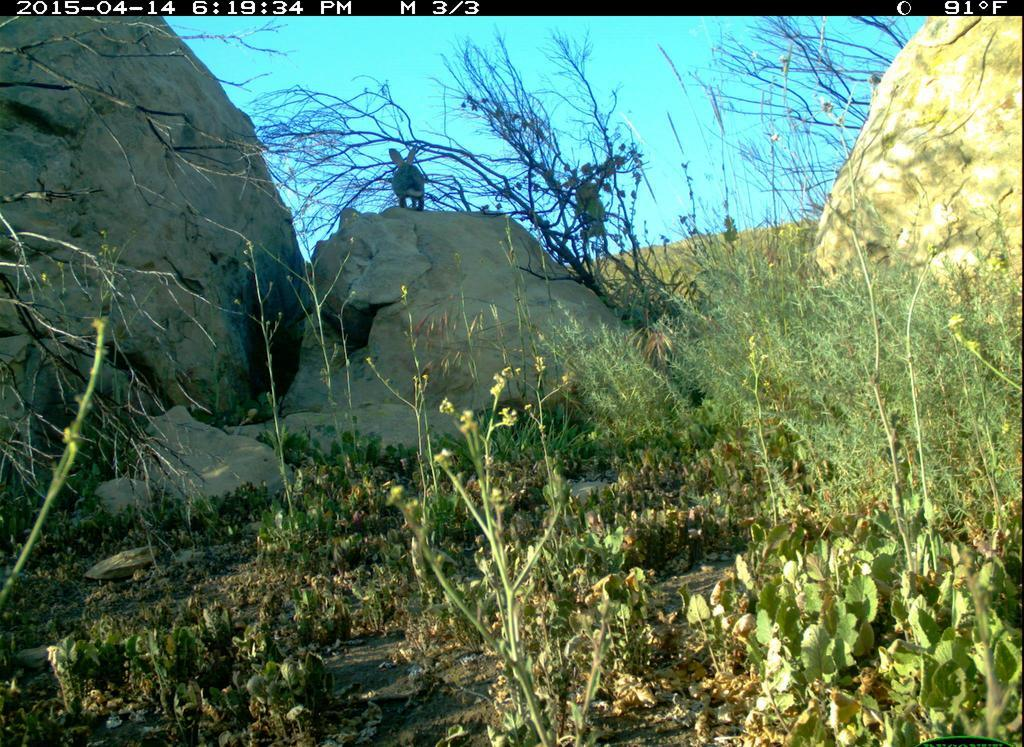rabbit: (376, 141, 437, 214)
